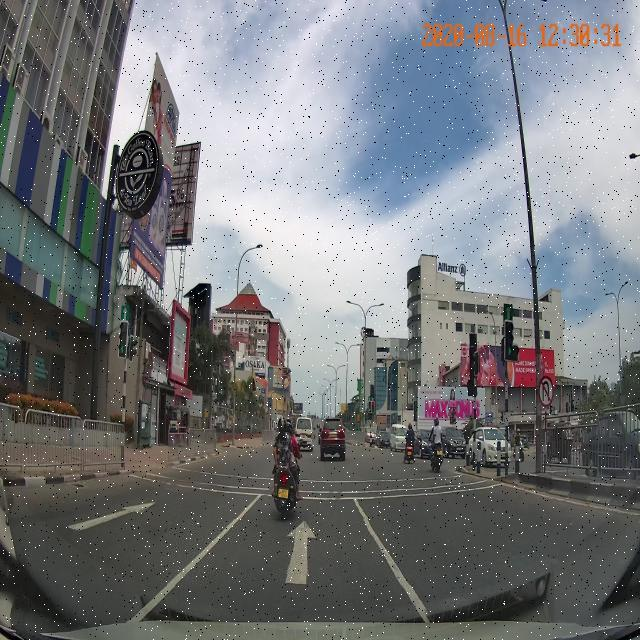forward: (169, 519, 413, 585)
